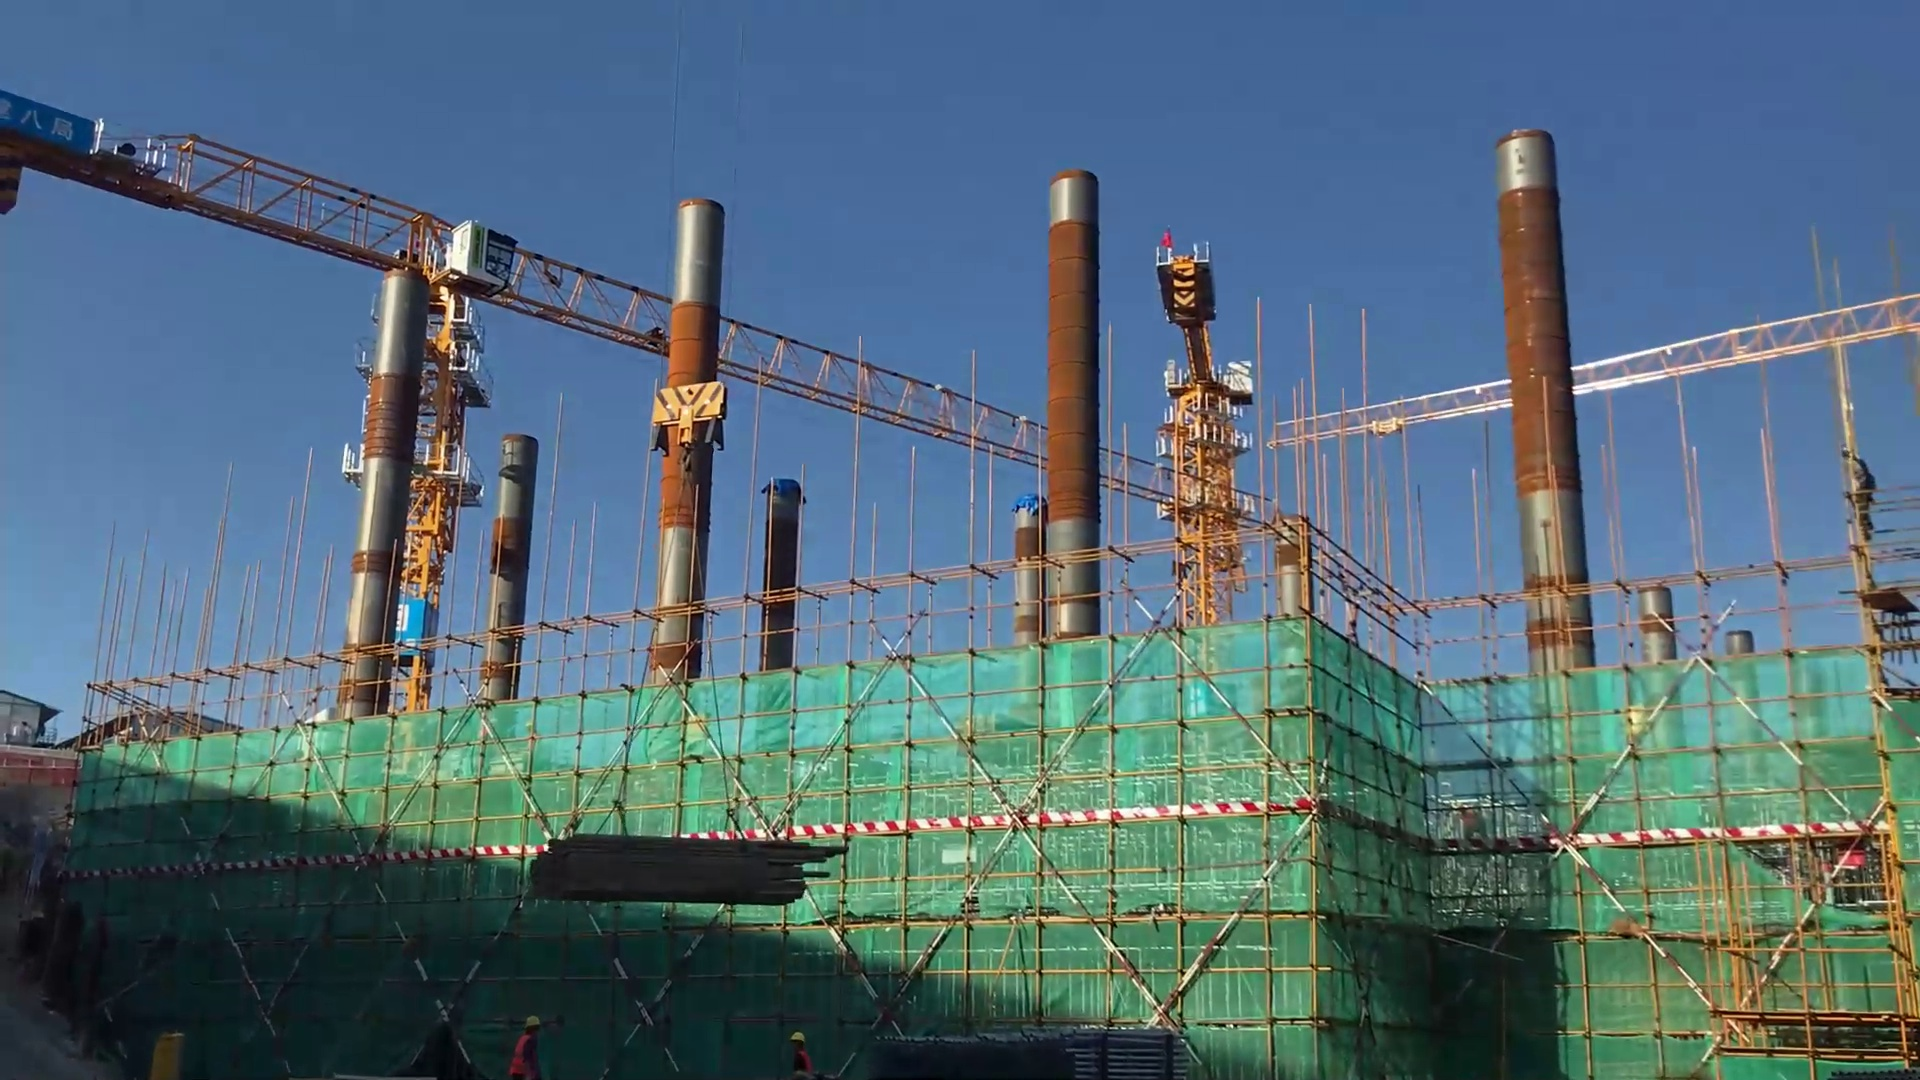ebox: (152, 1034, 184, 1079)
helmet: (521, 1015, 541, 1027), (790, 1032, 806, 1044)
hook: (648, 366, 731, 450)
person: (510, 1016, 547, 1080), (789, 1030, 815, 1075)
vest: (511, 1032, 539, 1080), (792, 1048, 813, 1074)
wood: (503, 822, 881, 927)
